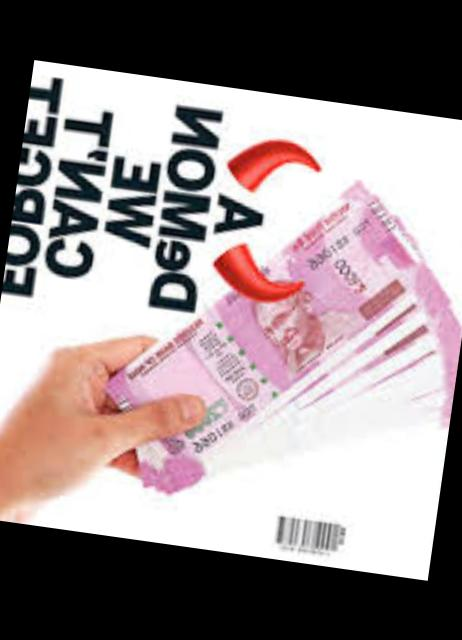cardboard paper: (0, 59, 462, 581)
